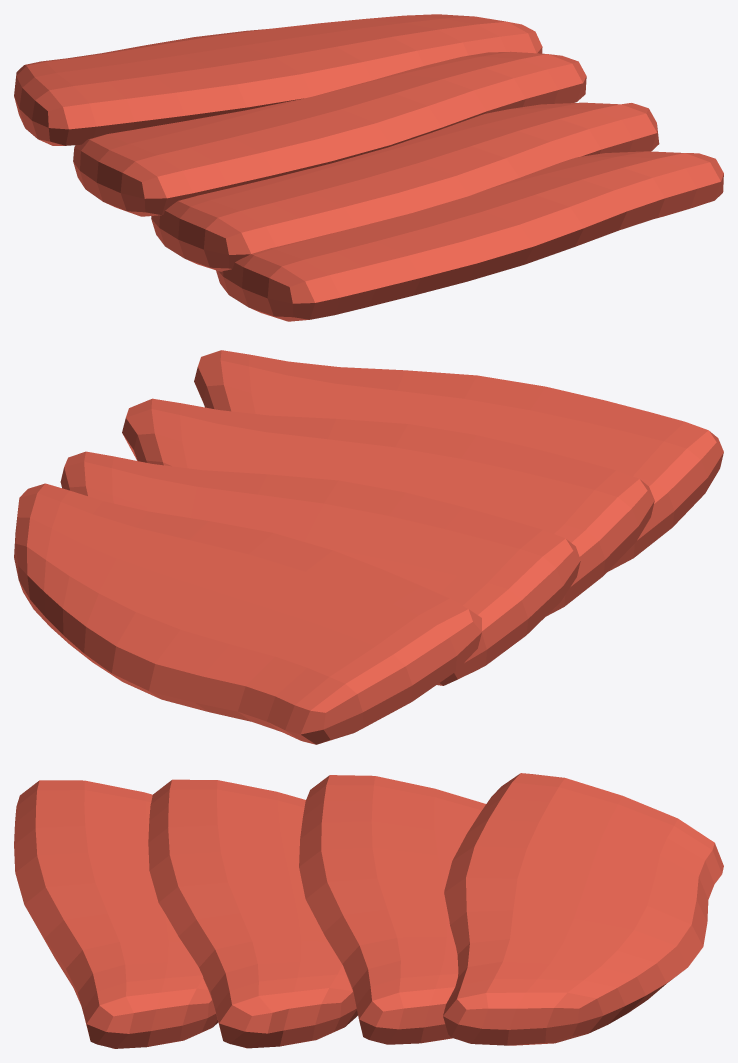
3 renders of one model, top to bottom at view 1: azimuth 30°, elevation 25°; view 2: azimuth 150°, elevation 25°; view 3: azimuth 270°, elevation 25°, orthographic. The views are drawn at different scales.
Parts seen in each view (by area): view 1: choppedsalmonorigin; view 2: choppedsalmonorigin; view 3: choppedsalmonorigin.
Part boxes in pixels (x1,y1,x2,y2): choppedsalmonorigin: (14, 14, 723, 321); choppedsalmonorigin: (14, 350, 723, 744); choppedsalmonorigin: (14, 773, 723, 1048).
Bounding box in the file's own units: 1.57 × 0.2707 × 1.99.
